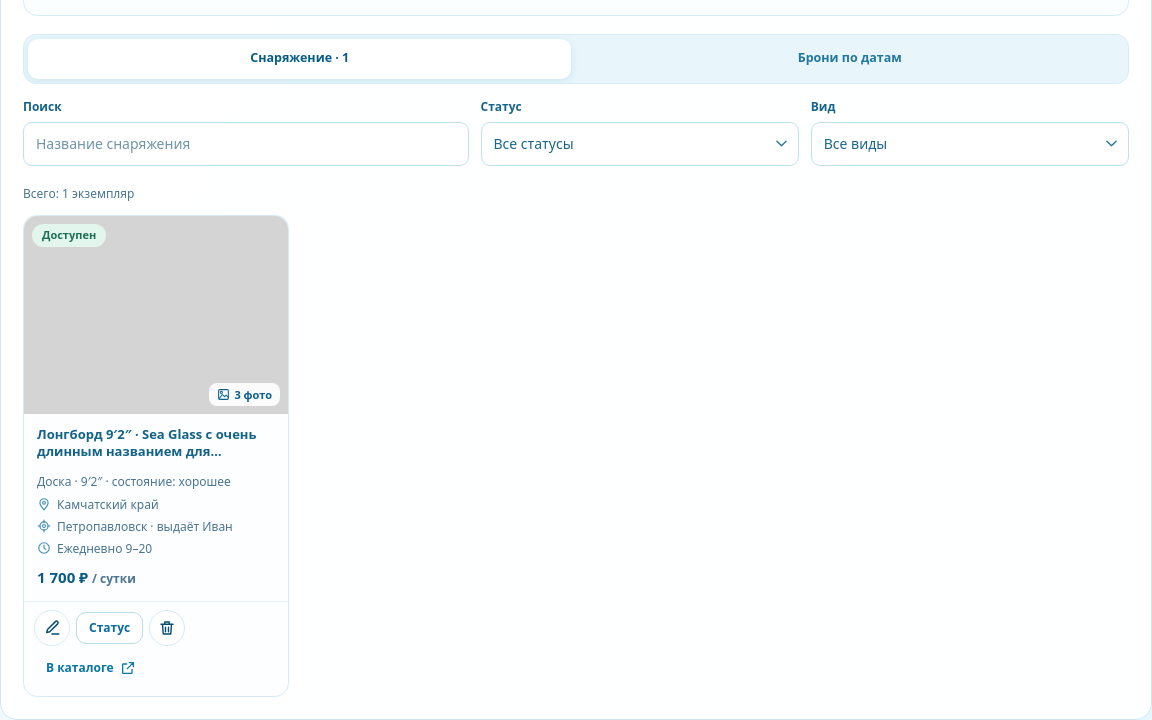
Test: RentalCabinet › delete of an item with history reports «списан»
(page scrolled)
What coordinates should you click on to do the following:
click the button named "Удалить «Лонгборд"
I would click on:
 (167, 628)
Its box is 149,610 -> 185,646.
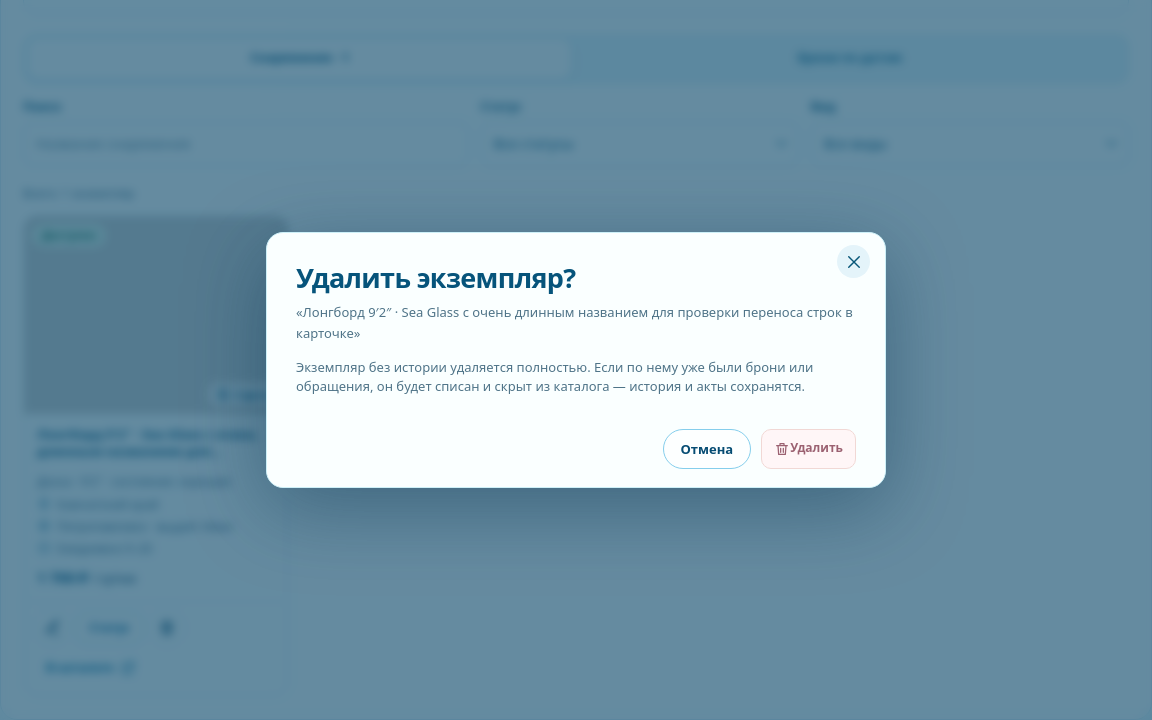
What coordinates should you click on to do the following:
click the button "Удалить"
I would click on:
 (809, 449)
Its box is 761,429 -> 856,469.
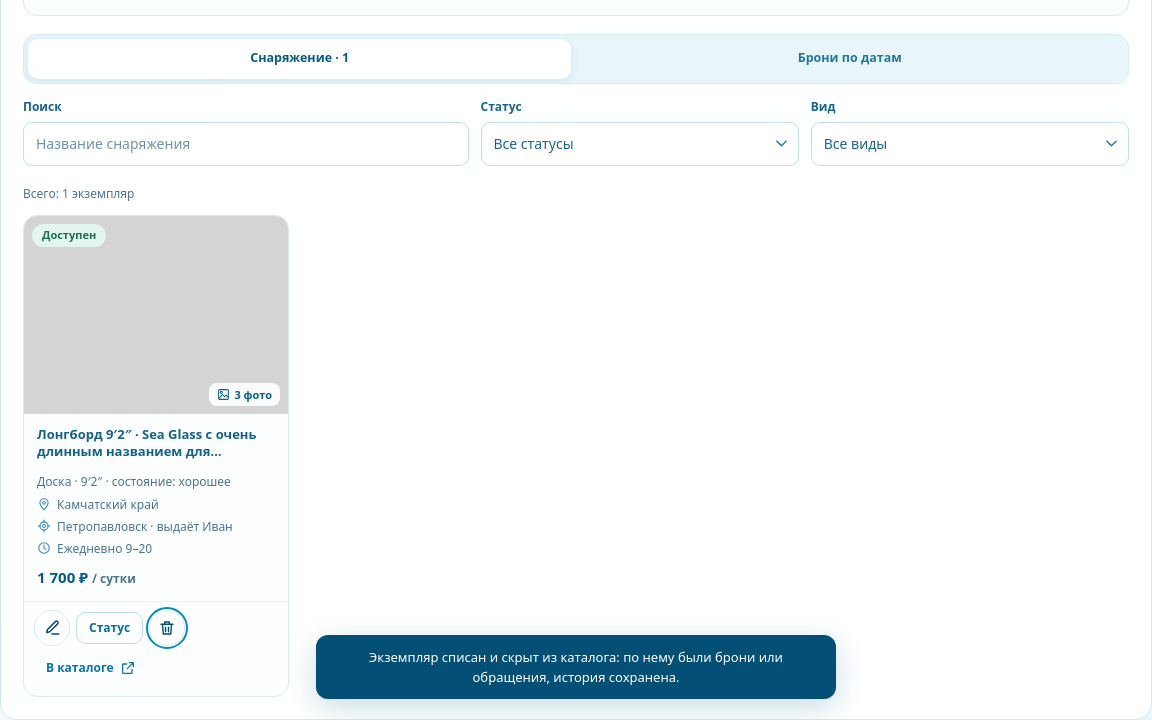
Check: the text "списан и скрыт из каталога" is shown, box 369,648 -> 783,686
